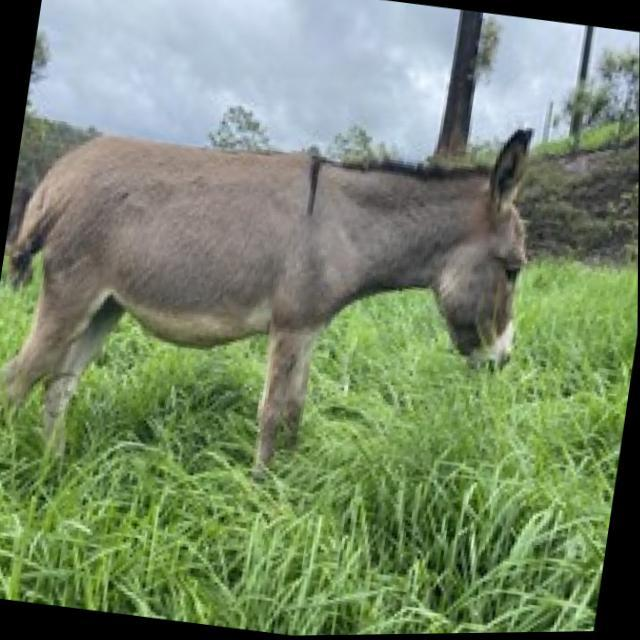Donkey: (0, 57, 548, 526)
